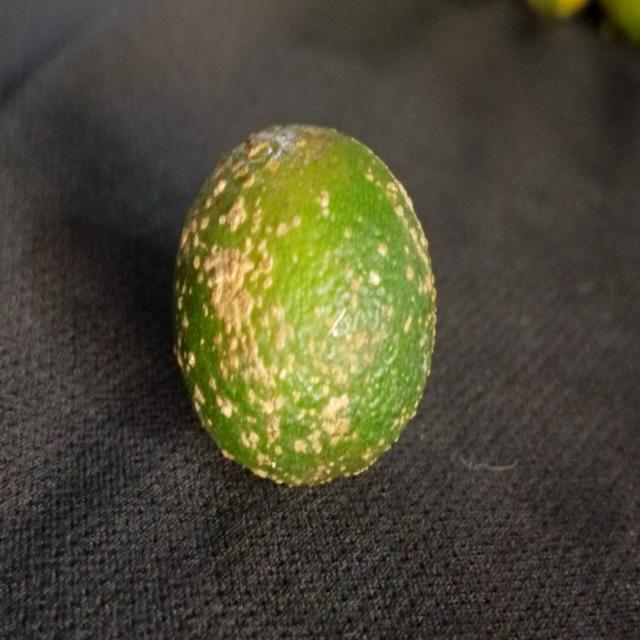scab: (164, 114, 444, 490)
